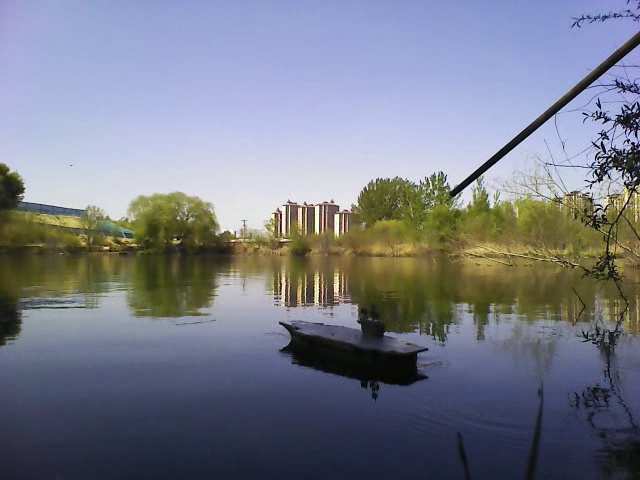aircraft_carrier: (276, 311, 432, 374)
